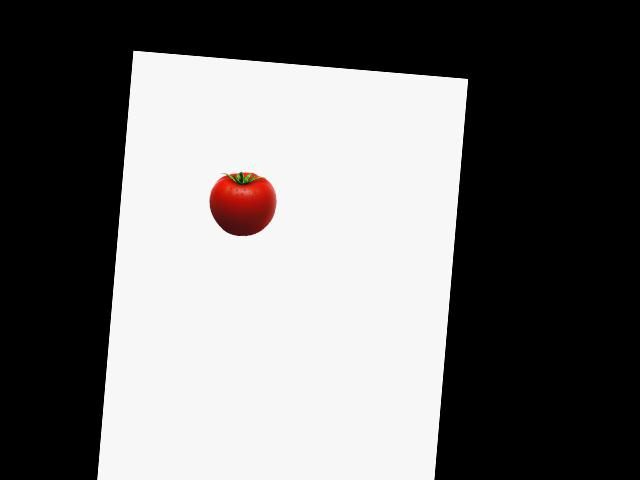tomato: (207, 169, 271, 238)
